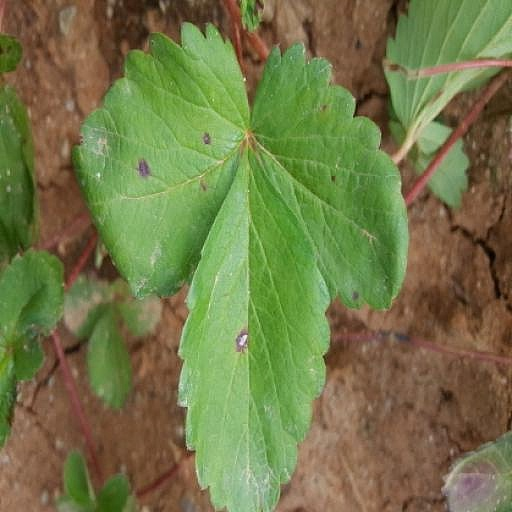Leaf Spot: (180, 141, 336, 511), (262, 20, 442, 303), (102, 38, 264, 311), (350, 277, 401, 342)
